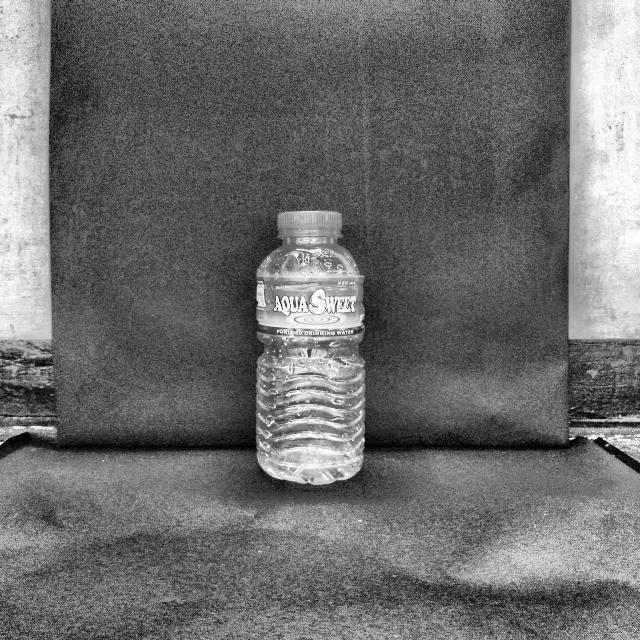Plastic-Bottle: (252, 207, 366, 486)
